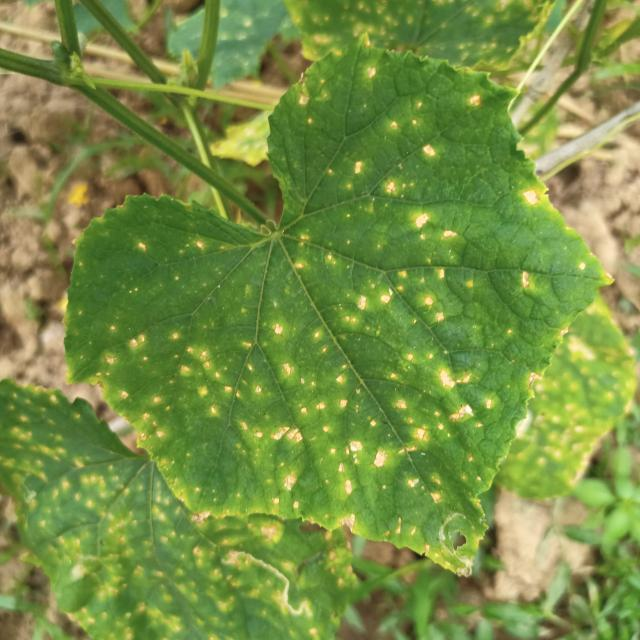disease_cucumber: (75, 235, 583, 520), (290, 62, 492, 245), (517, 183, 543, 210)
